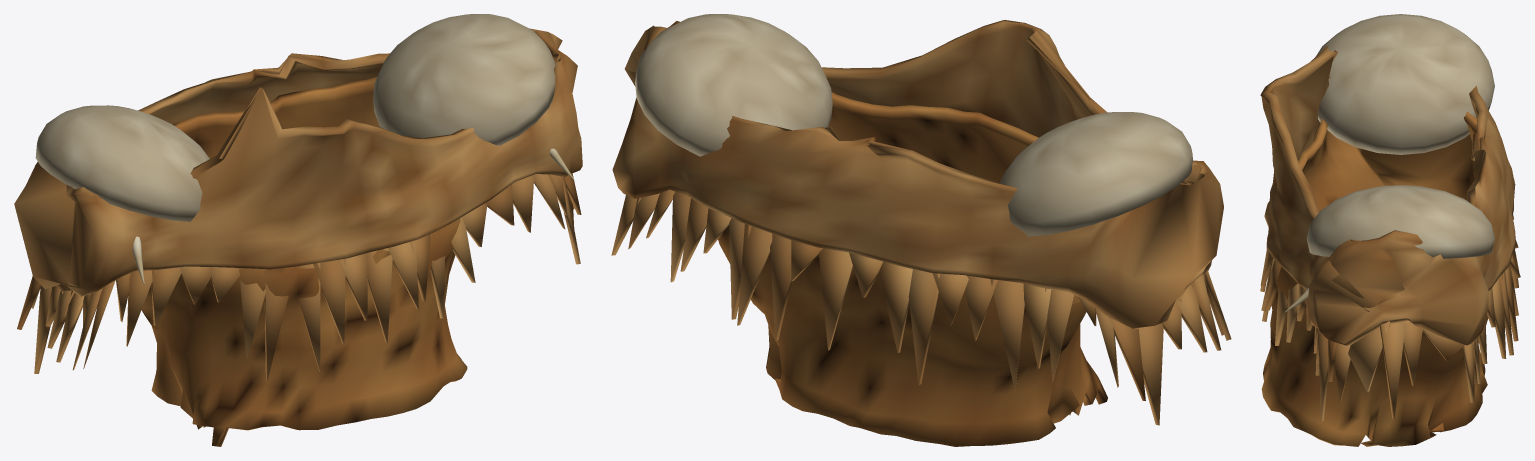
Rendered from sabre_hide.glb.
The picture shows the model from 3 angles, left to right: view 1: azimuth 30°, elevation 25°; view 2: azimuth 150°, elevation 25°; view 3: azimuth 270°, elevation 25°; orthographic projection. The views are drawn at different scales.
Visible parts, largest first — view 1: sabre_hide; view 2: sabre_hide; view 3: sabre_hide.
Boxes of the visible parts, bbox=[...] form: sabre_hide: bbox=[14, 14, 582, 446]; sabre_hide: bbox=[611, 14, 1231, 446]; sabre_hide: bbox=[1260, 14, 1520, 446].
Bounding box in the file's own units: 0.3774 × 0.2284 × 0.1702.
